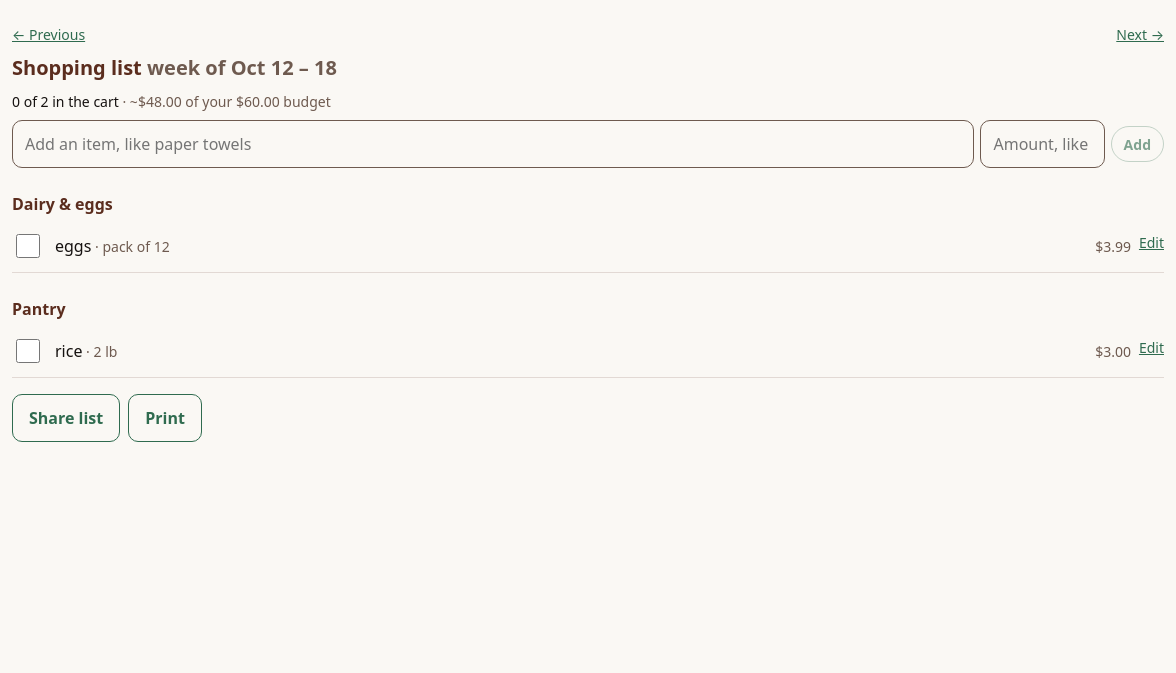
Test case: ListPage › prices the items you add yourself, and again when renamed (TYL-146)
This screenshot has width=1176, height=673.
Expected: the list named "Dairy & eggs" is shown, [12, 220, 1164, 273]
Step 1. Type "wheat bread" into the field labelled "Add an item" → (493, 144), box [12, 120, 974, 168]
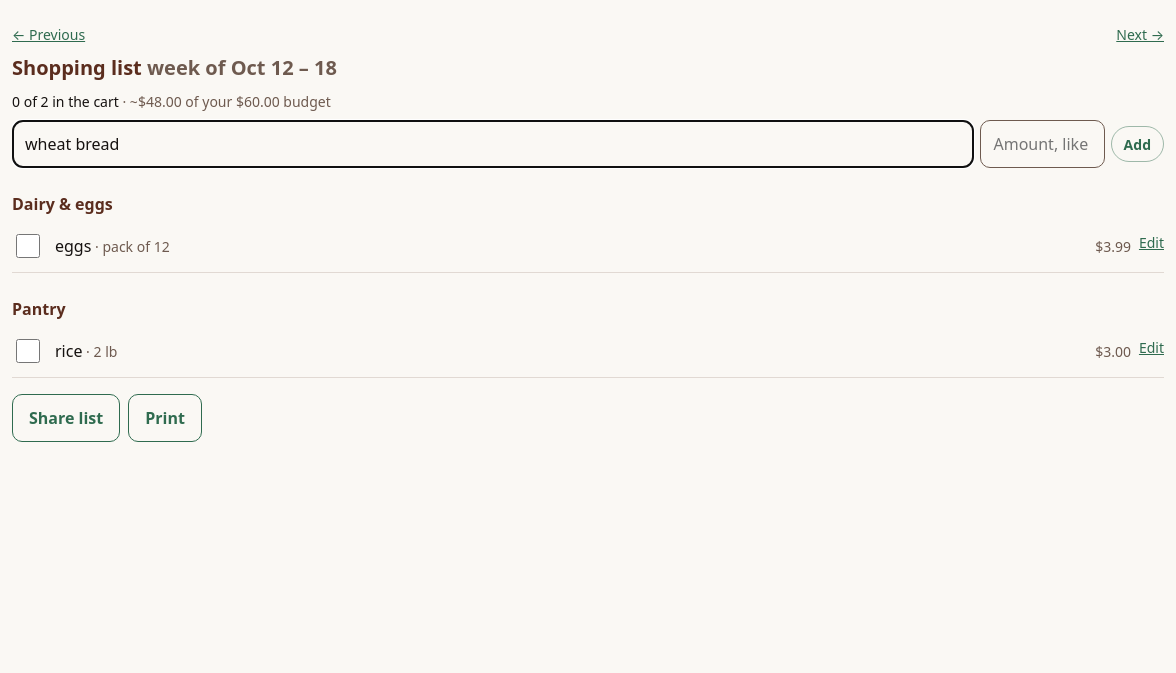
Step 2. Click the button "Add" → (1137, 144), box [1111, 126, 1164, 162]
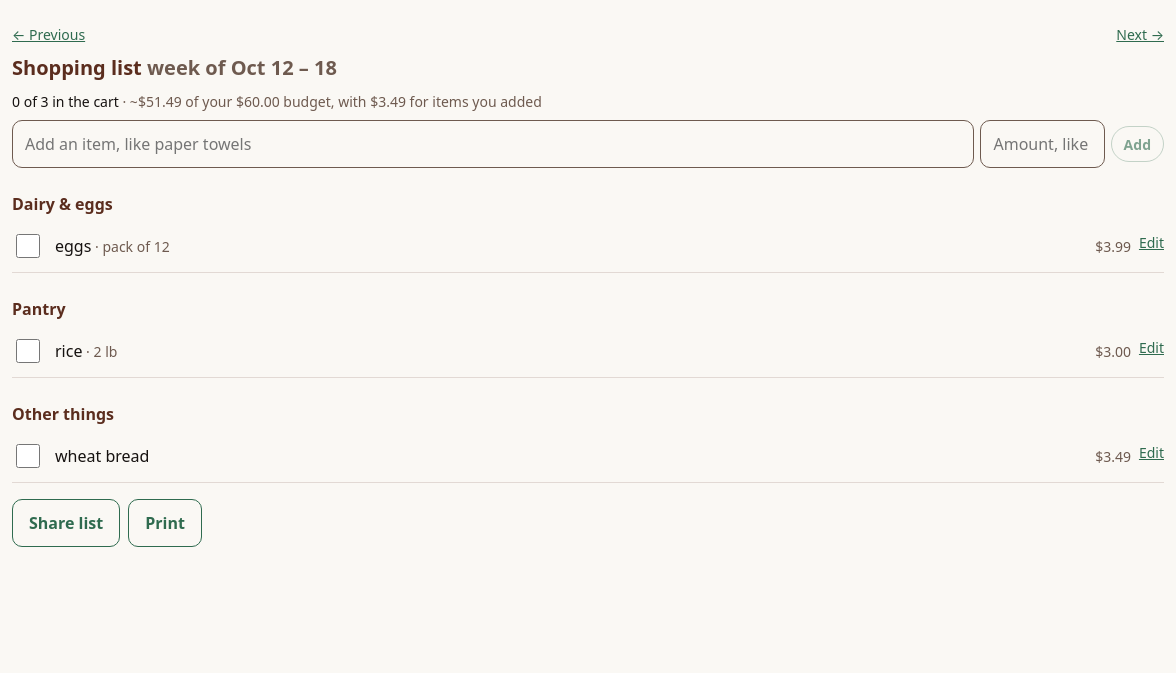
Expected: the text "$3.49" is shown, [1095, 446, 1131, 466]
Expected: the text "~$51.49 of your $60.00 budget, with $3.49 for items you added" is shown, [119, 92, 542, 111]
Note: Renamed to something Sous doesn't know: matched again, and unpriced.
Step 3. Click the button with aria-label "Edit wheat bread" → (1151, 452), box [1139, 430, 1164, 474]
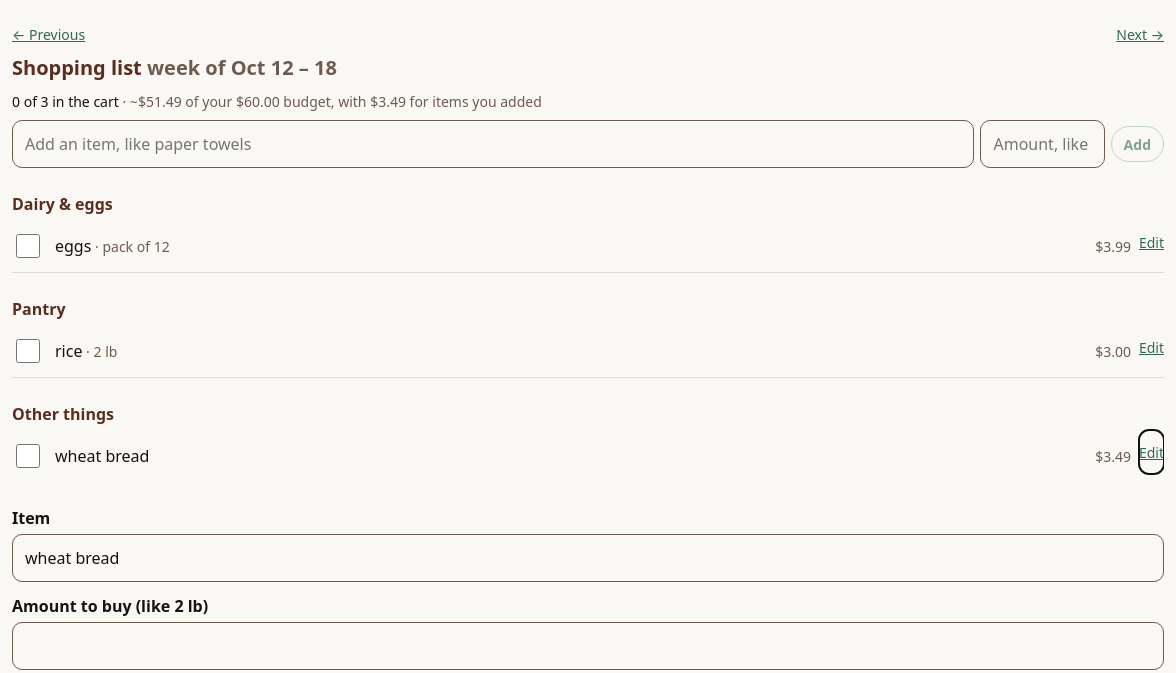
Step 4. Replace the text in the field labelled "Item" with "veggie dogs" → (588, 558), box [12, 534, 1164, 582]
(page scrolled)
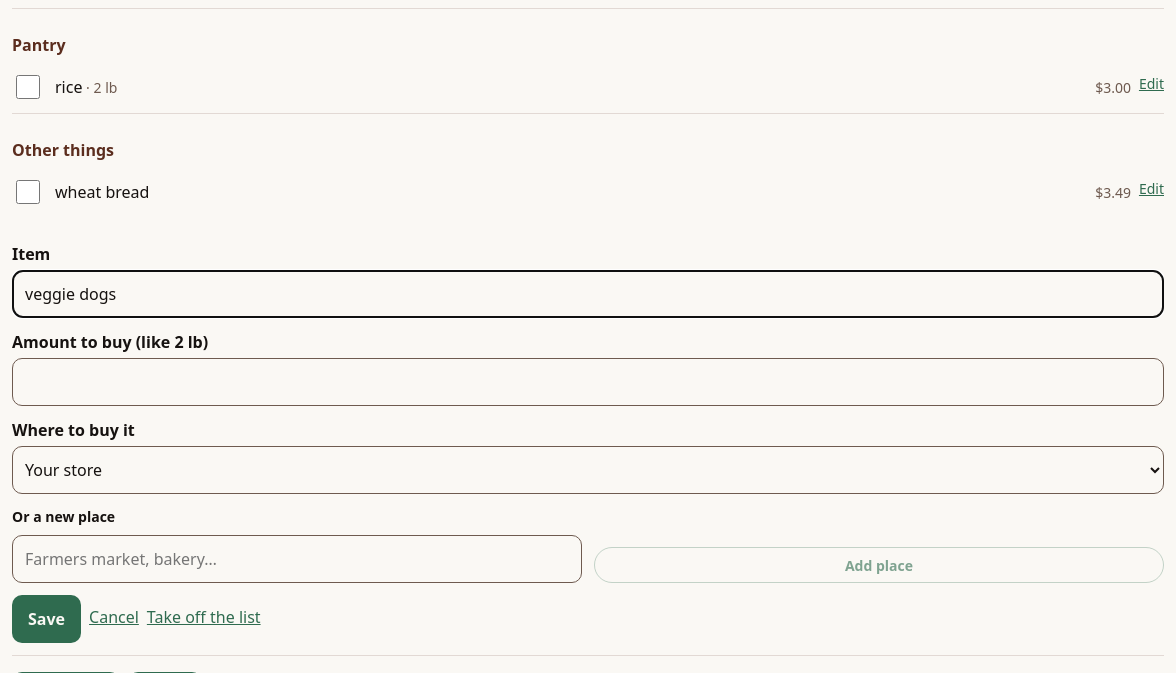
Step 5. Click the button "Save" → (46, 619), box [12, 595, 81, 643]
(page scrolled)
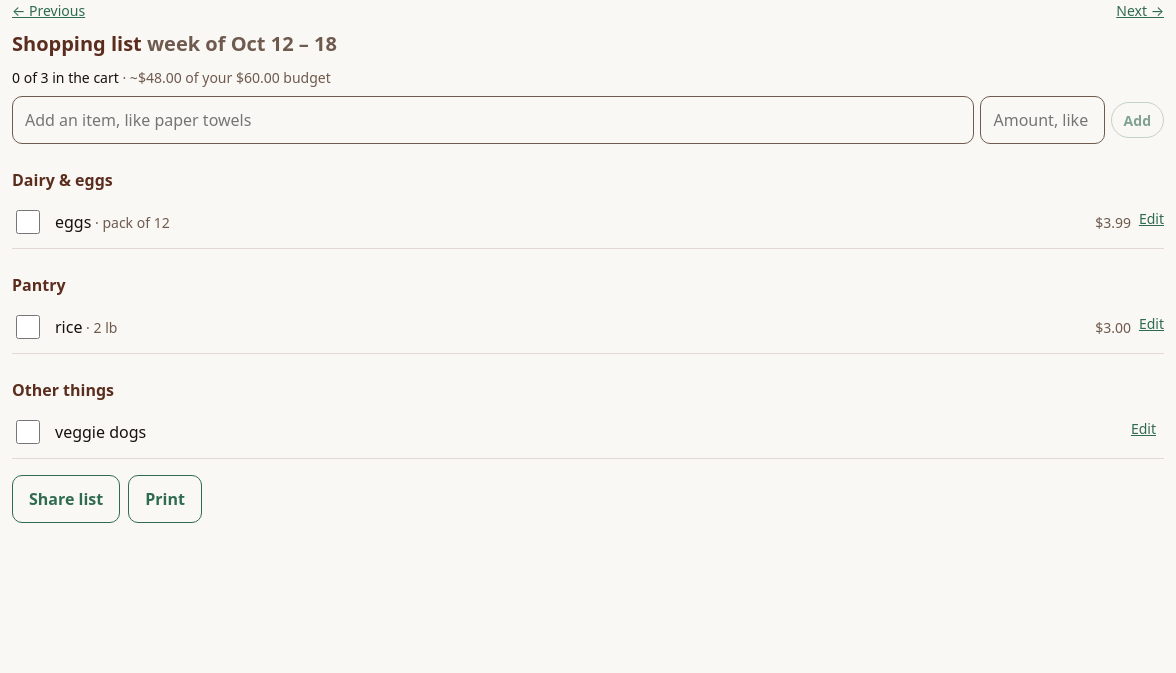
Expected: the text "$3.49" is gone
Expected: the text "· ~$48.00 of your $60.00 budget" is shown, [119, 68, 331, 87]
